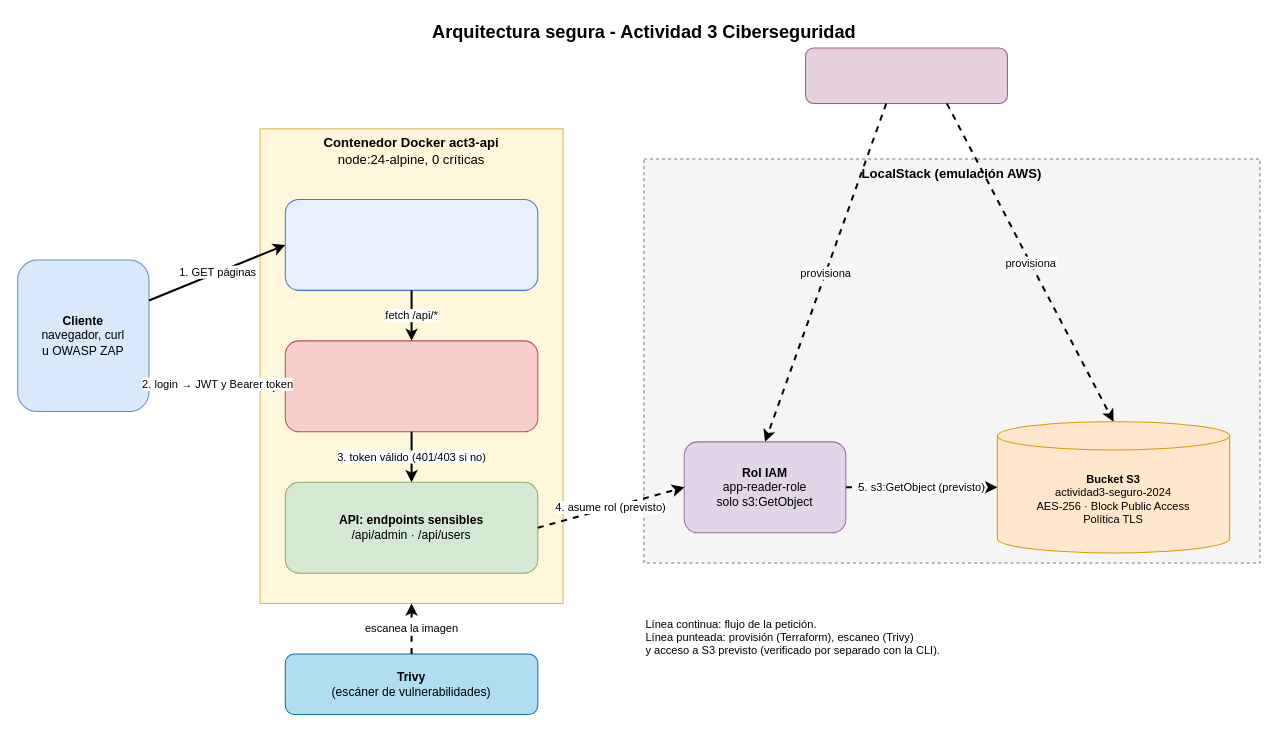
This 1278x732 diagram has some shape labels left out. Here are the shapes that lost their labels. From the top down, the box of each, then its label:
(804, 47, 1007, 104): Terraform (infraestructura como código)
(284, 198, 538, 290): Sitio web (public/) login, panel de usuario, panel de administración
(284, 340, 538, 432): Middleware JWT authenticateJWT + requireRole (autenticación)
